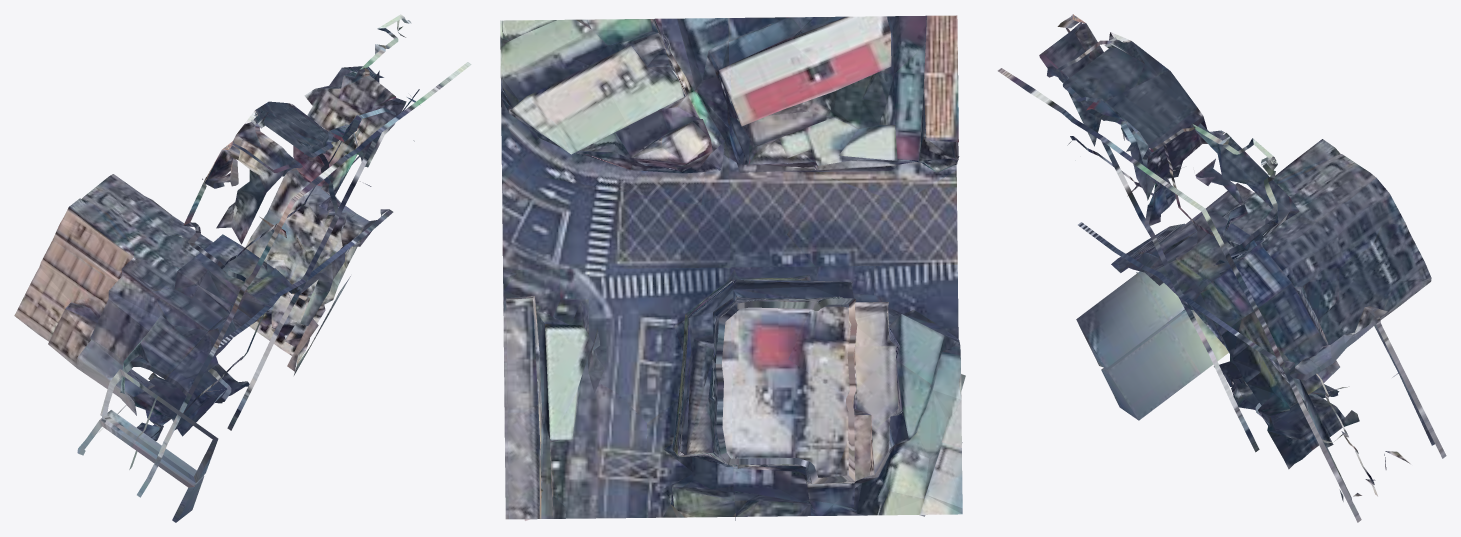
3 renders of one model, left to right at view 1: azimuth 30°, elevation 25°; view 2: azimuth 150°, elevation 25°; view 3: azimuth 270°, elevation 25°, orthographic. The views are drawn at different scales.
Bounding box in the file's own units: 84.2 × 80.32 × 79.68.
Materials: 1 (1 with a texture image).
